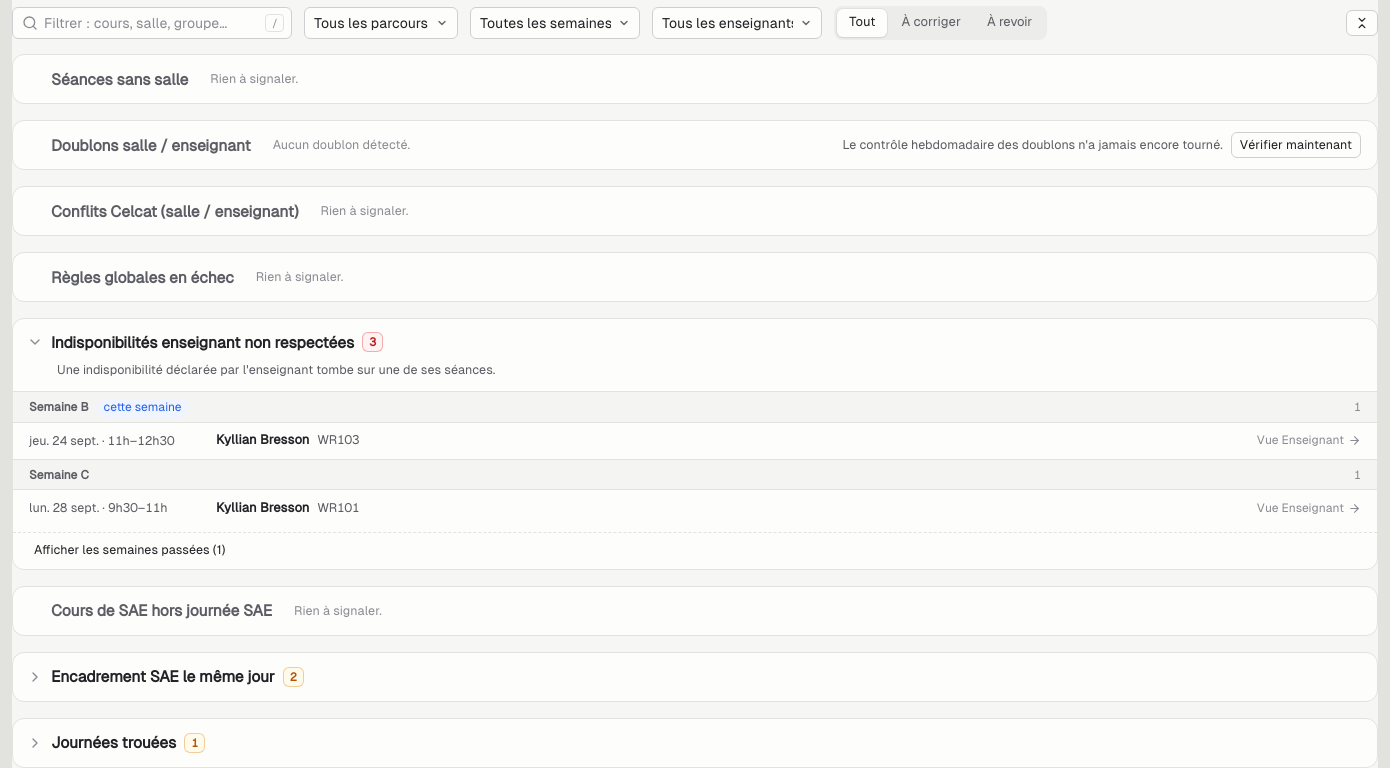
Test: TodoView — liste traitable › groups points by nature with a count per section
(page scrolled)
Check: the text "Aucun doublon détecté." is shown, box [273,136,410,154]
Check: the text named "3 points" is shown, box [362,332,383,352]
Click the button "Encadrement SAE le même jour 2".
click(167, 677)  # box [21,660,314,694]
(page scrolled)
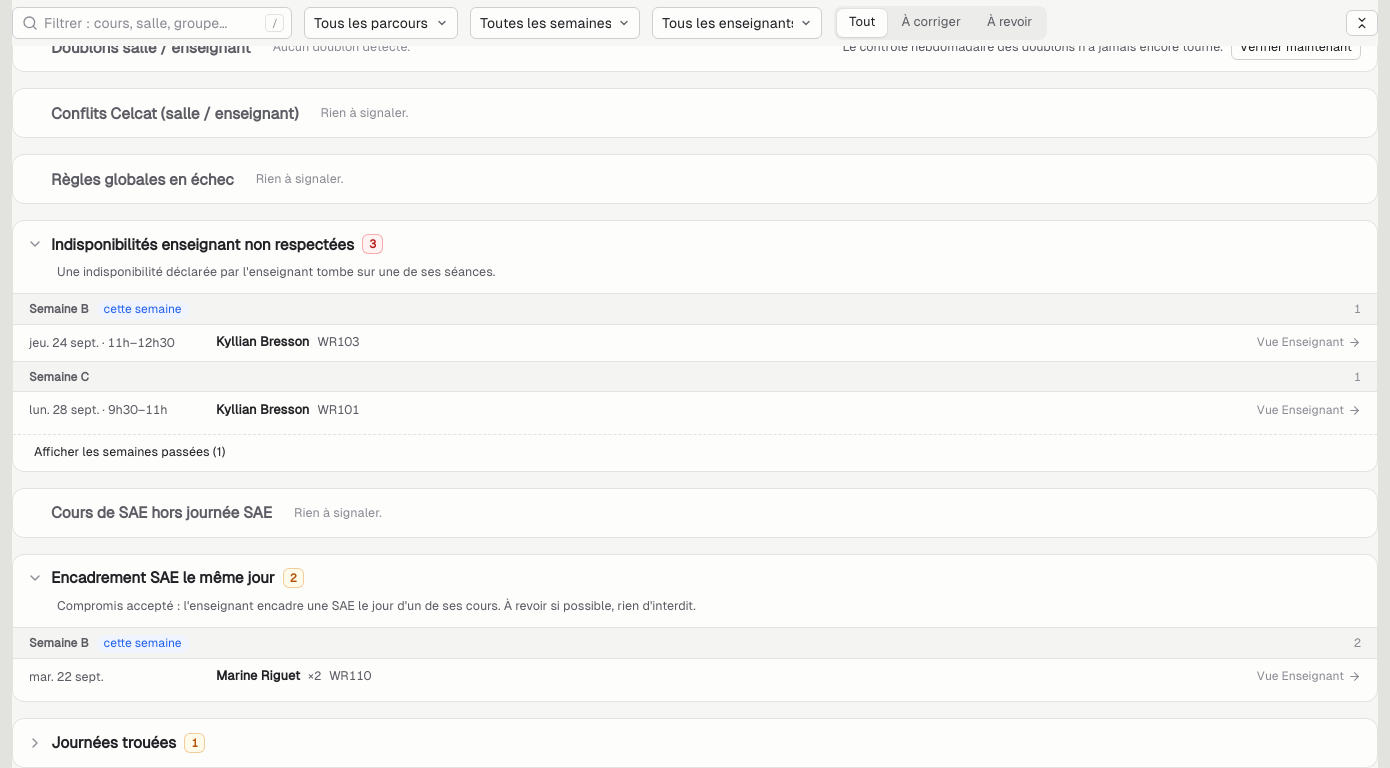
Check: the text "×2" is shown, box [308,668,321,686]
